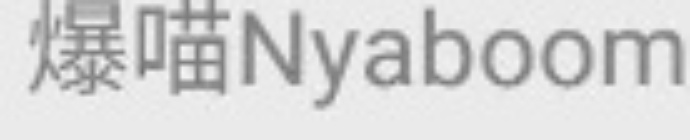TextView: (1, 1, 689, 139)
